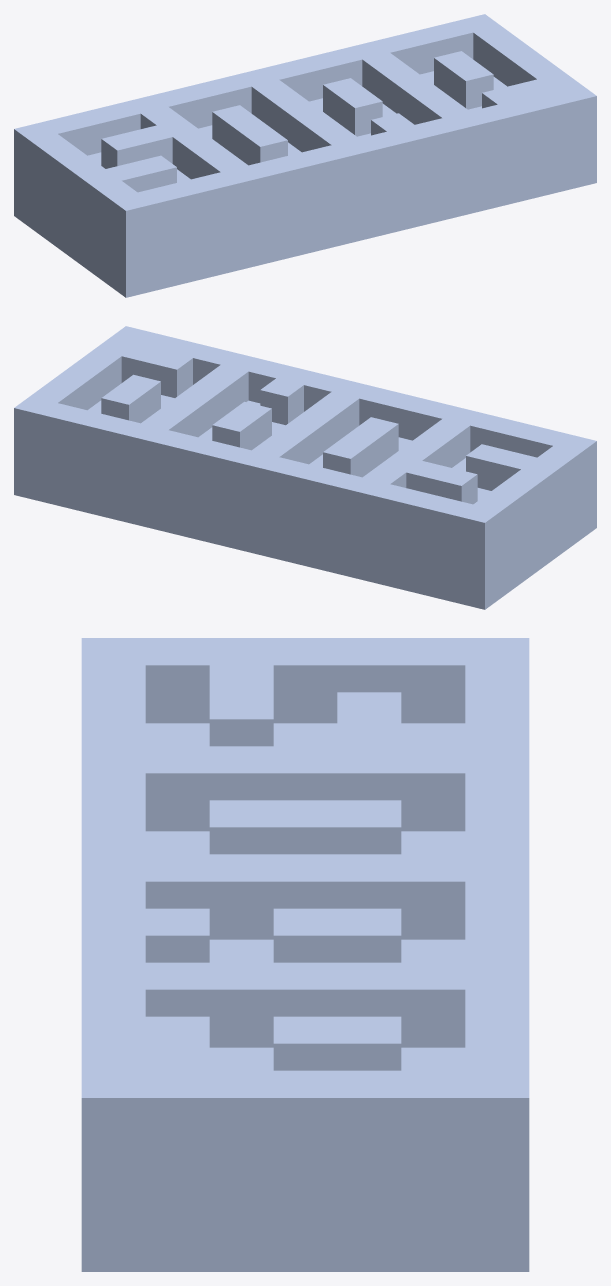
File: soap.obj
3 renders of one model, top to bottom at view 1: azimuth 30°, elevation 25°; view 2: azimuth 150°, elevation 25°; view 3: azimuth 270°, elevation 25°, orthographic. The views are drawn at different scales.
Parts seen in each view (by area): view 1: soap; view 2: soap; view 3: soap.
Boxes of the visible parts, x1,y1,x2,y2 form: soap: (14, 14, 596, 297); soap: (14, 326, 596, 609); soap: (81, 638, 529, 1271).
Size of the model in its own units: 17 by 3 by 7.
1 material, 1 textured.
